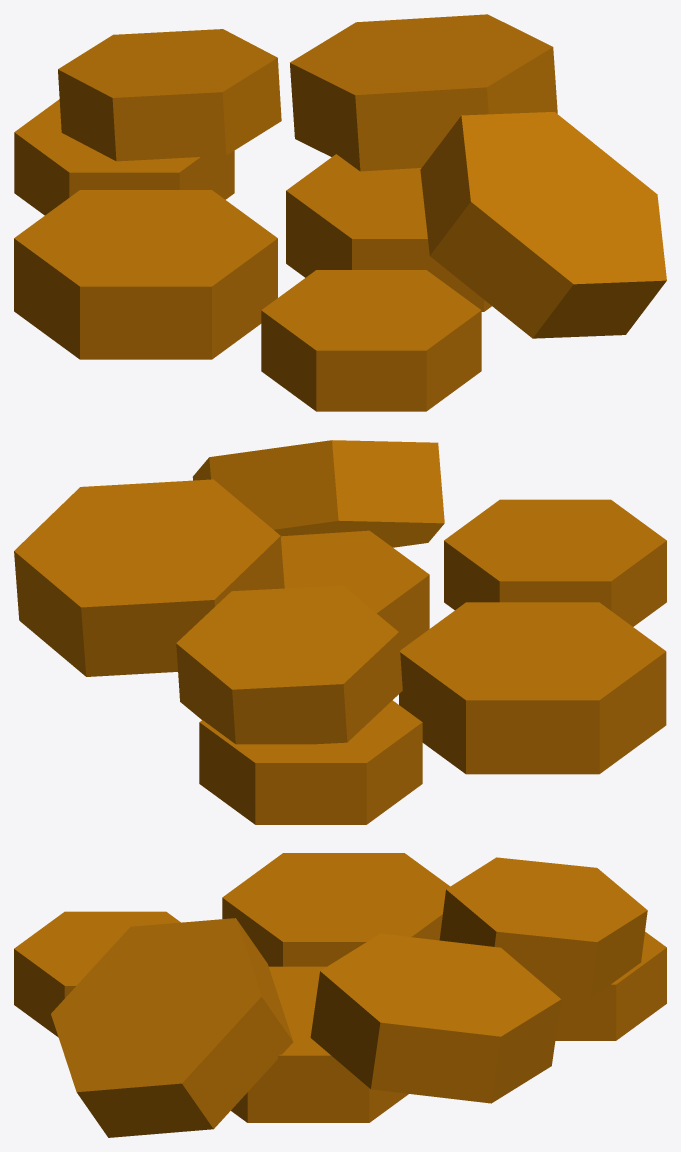
The model's file is Carrot_Cut.glb.
3 views of the same model, one above another, from view 1: azimuth 30°, elevation 25°; view 2: azimuth 150°, elevation 25°; view 3: azimuth 270°, elevation 25° (orthographic). The views are drawn at different scales.
Visible parts, largest first — view 1: CutCarrot; view 2: CutCarrot; view 3: CutCarrot.
Boxes of the visible parts, x1=… form: CutCarrot: x1=14, y1=14, x2=666, y2=411; CutCarrot: x1=14, y1=440, x2=666, y2=824; CutCarrot: x1=14, y1=853, x2=666, y2=1137.
Size of the model in its own units: 0.1692 by 0.0591 by 0.1974.
